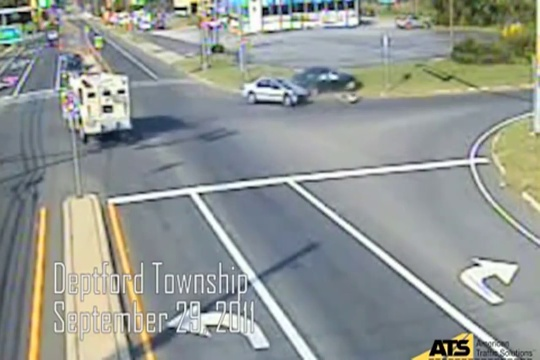car: (65, 68, 131, 140), (240, 75, 303, 102), (301, 64, 360, 91), (391, 16, 432, 30)
